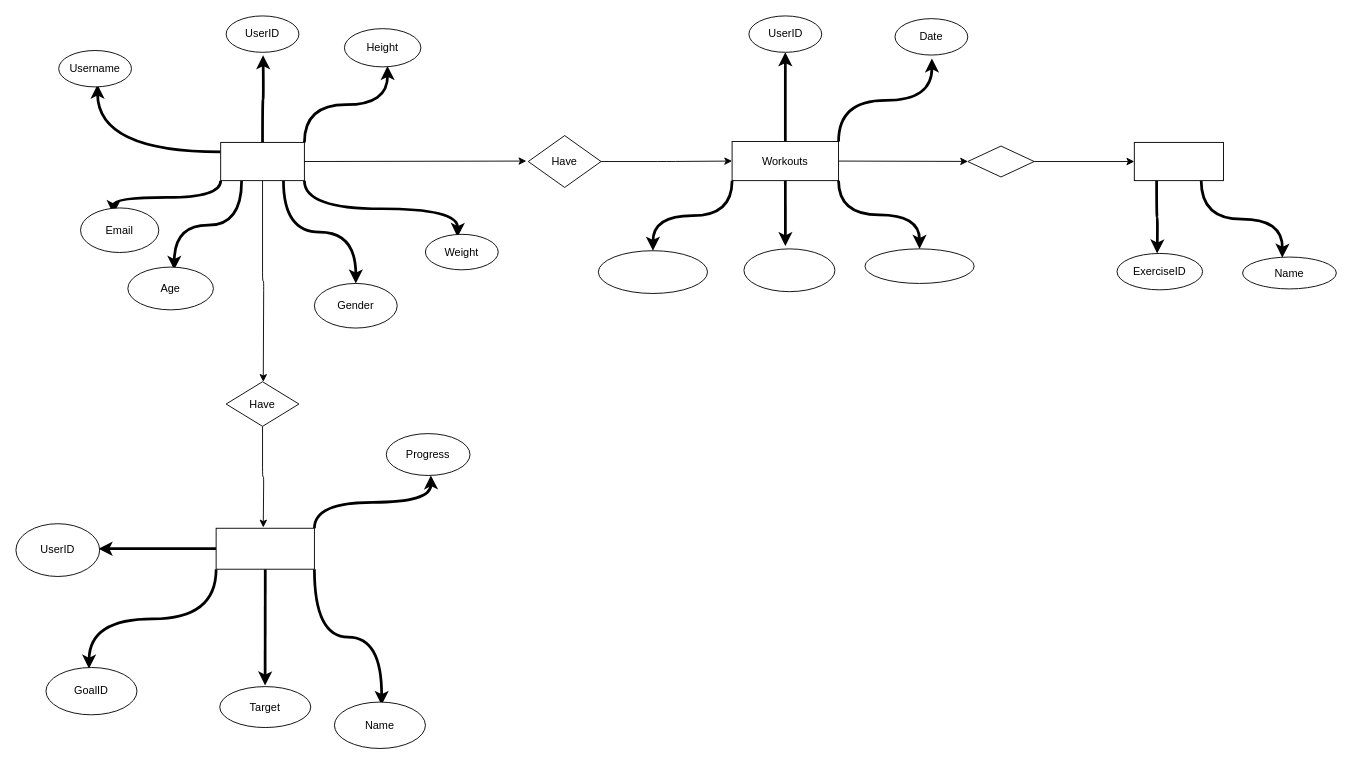
This 1352x764 diagram has some shape labels left out. The centre of each missing label's shape, as x and y in pixels:
"And" belongs at [1000,161].
"Calories" belongs at [652,271].
"Distance" belongs at [789,270].
"Duration" belongs at [919,265].
"Exercises" belongs at [1178,161].
"Goals" belongs at [264,548].
"Users" belongs at [262,161].
